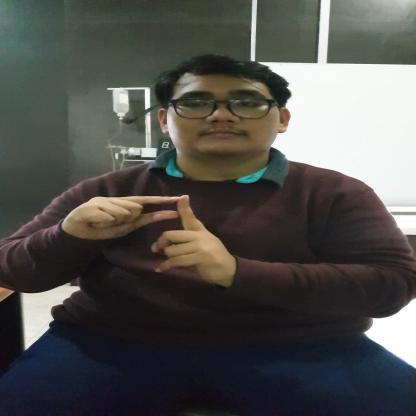P: (67, 193, 232, 287)
